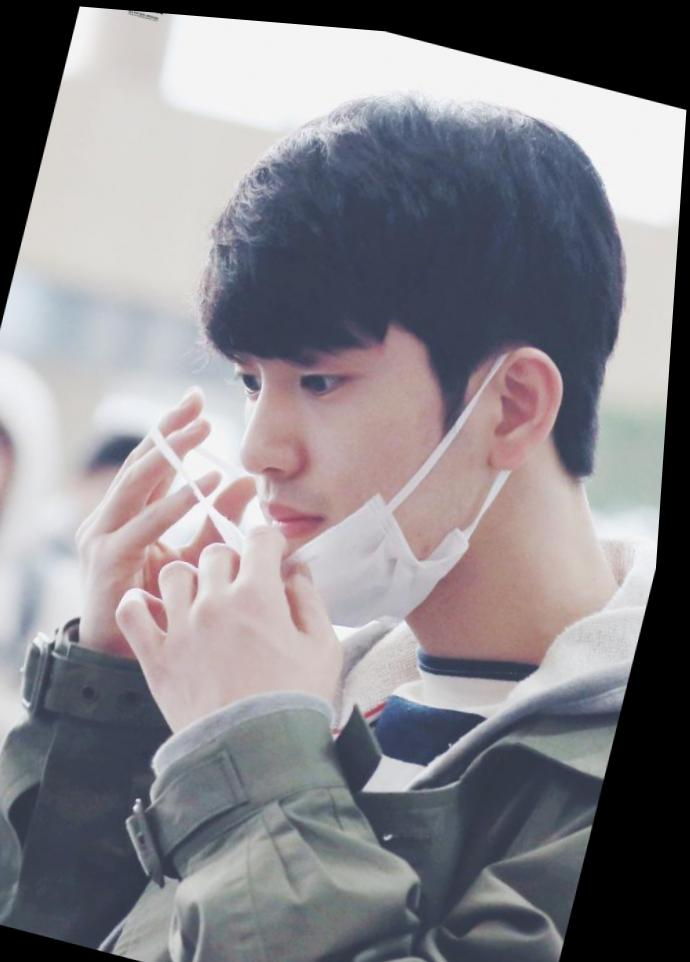WRONG: (187, 275, 511, 648)
